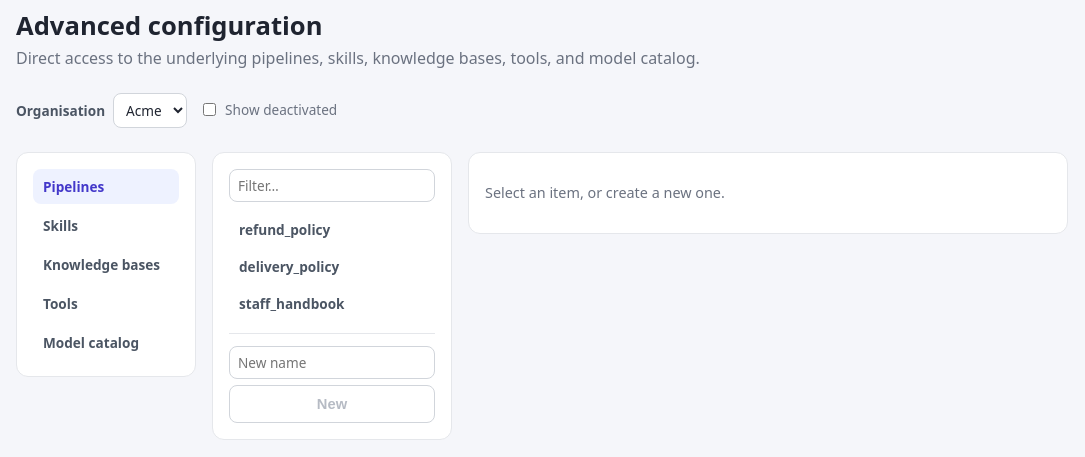
Test: AdvancedPage item filter › narrows the list to matching names, and says so when nothing matches
Expected: the dropdown labelled "Organisation" shows "Acme", x1=113 y1=93 x2=187 y2=128
Expected: the button "refund_policy" is shown, x1=229 y1=212 x2=435 y2=247
Type "policy" into the search field with placeholder "Filter…". click: (332, 186)
box: x1=229 y1=169 x2=435 y2=202
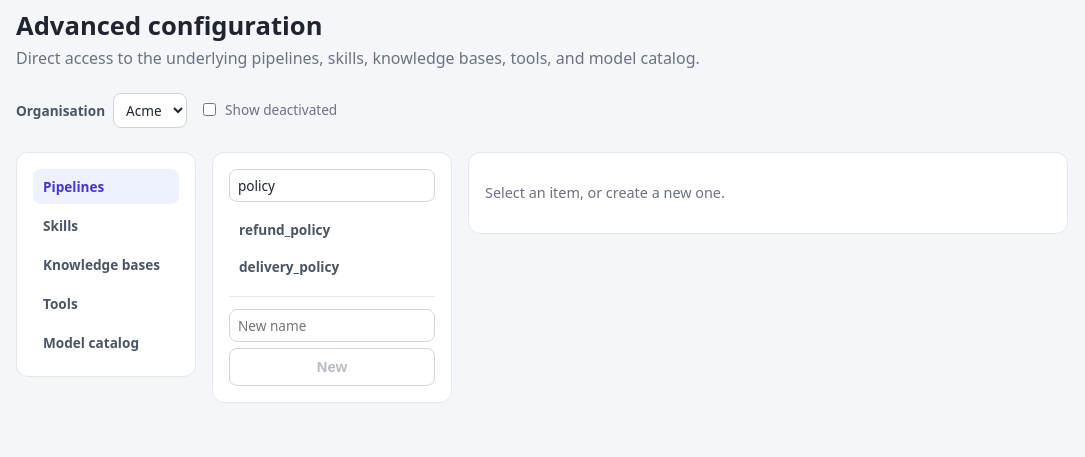
Expected: the button "refund_policy" is shown, x1=229 y1=212 x2=435 y2=247
Expected: the button "staff_handbook" is gone
Replace the text in the search field with placeholder "Filter…" with "zzz". click: (332, 186)
box: x1=229 y1=169 x2=435 y2=202
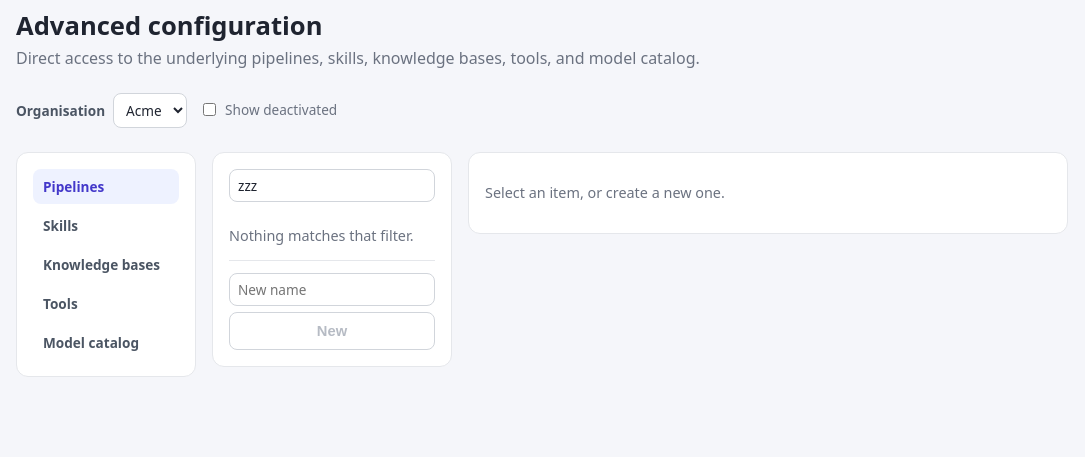
Expected: the text "Nothing matches that filter." is shown, x1=229 y1=226 x2=435 y2=245
